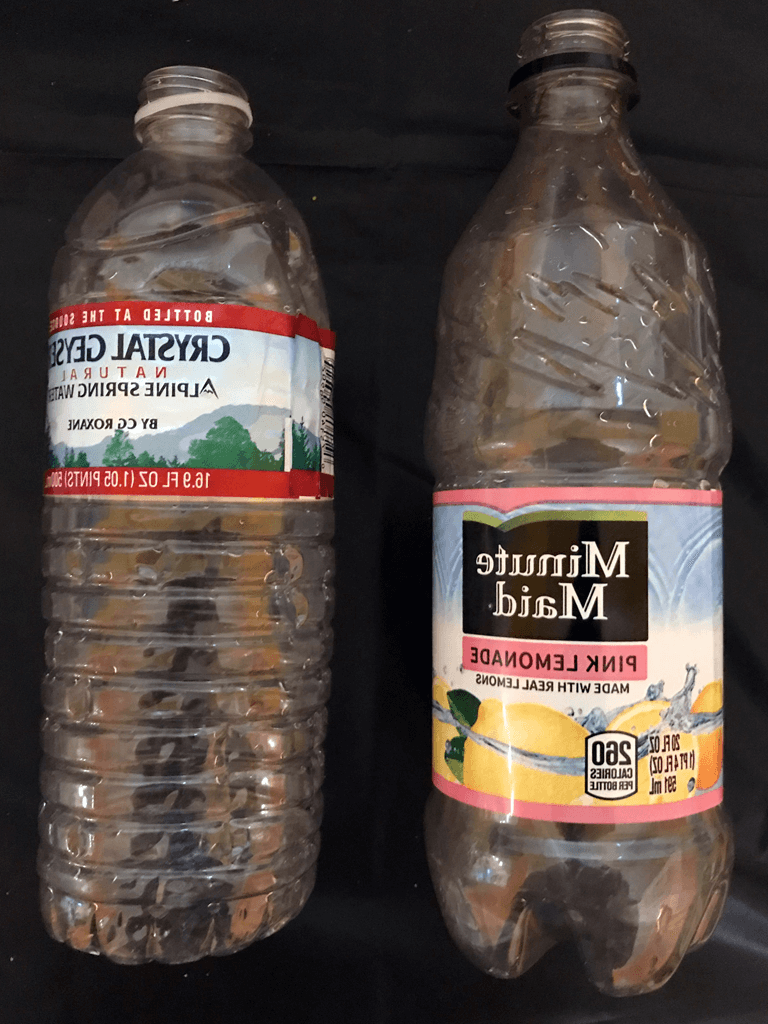plastic water bottle: (1, 51, 378, 973), (418, 16, 738, 1002)
